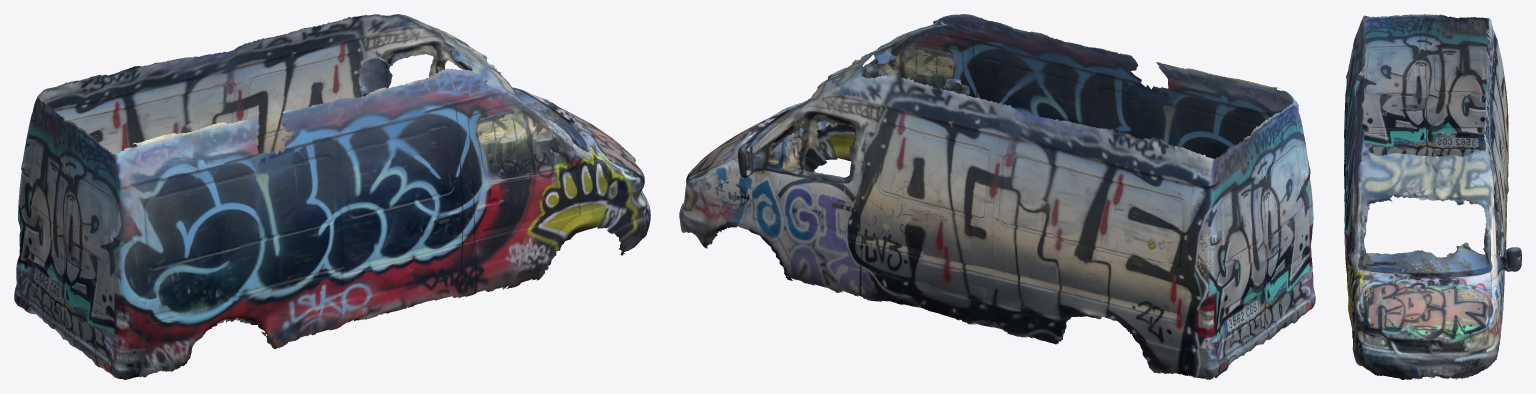
File: van-018.glb
3 renders of one model, left to right at view 1: azimuth 30°, elevation 25°; view 2: azimuth 150°, elevation 25°; view 3: azimuth 270°, elevation 25°, orthographic. The views are drawn at different scales.
Visible parts, largest first — view 1: No__18; view 2: No__18; view 3: No__18.
Part boxes in pixels (x1,y1,x2,y2): No__18: (14,14,650,379); No__18: (679,14,1315,379); No__18: (1344,14,1521,379).
Bounding box in the file's own units: 5.57 × 2.19 × 2.02.
1 material, 1 textured.
